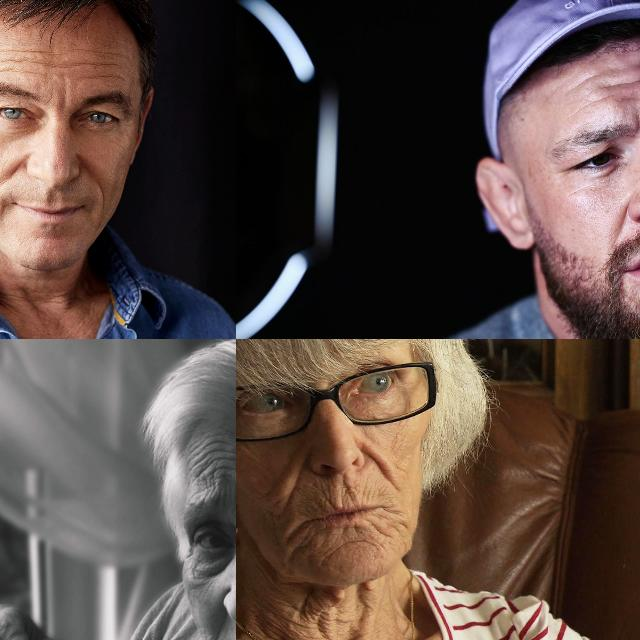chin: (331, 531, 383, 561)
forehead: (73, 51, 127, 88), (0, 42, 50, 81), (566, 67, 604, 93), (192, 447, 212, 487), (571, 95, 607, 113), (218, 438, 236, 469), (614, 71, 640, 89)
frown_line: (227, 474, 236, 505)
gummy_smile: (358, 446, 398, 488), (82, 157, 114, 197), (282, 462, 306, 512), (0, 153, 30, 190), (208, 621, 226, 640)
sad_smile: (280, 521, 308, 555), (384, 507, 412, 531)
smoker_lines: (320, 484, 360, 506)
